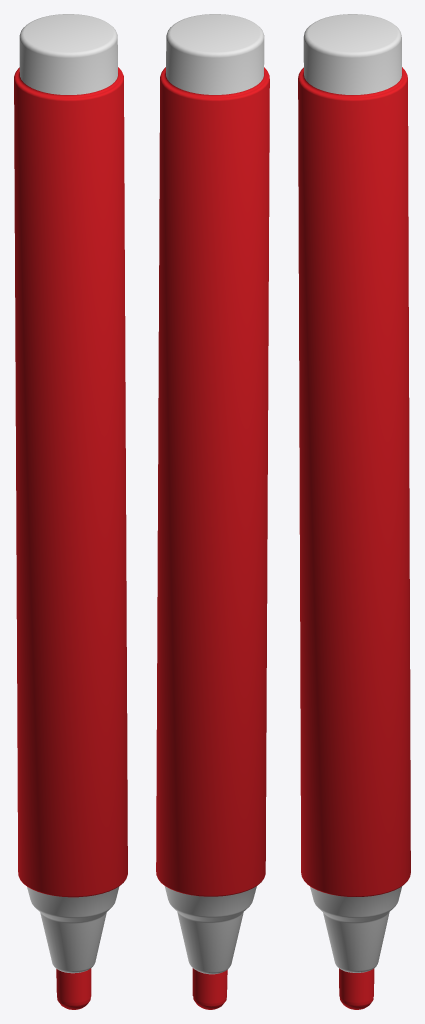
The model's file is marker_M.fbx.
3 renders of one model, left to right at view 1: azimuth 30°, elevation 25°; view 2: azimuth 210°, elevation 25°; view 3: azimuth 330°, elevation 25°, orthographic.
Parts seen in each view (by area): view 1: marker_M; view 2: marker_M; view 3: marker_M.
Part boxes in pixels (x1,y1,x2,y2): marker_M: (14, 14, 127, 1009); marker_M: (156, 14, 269, 1009); marker_M: (298, 14, 410, 1009).
Bounding box in the file's own units: 0.0475 × 0.448 × 0.0462.
